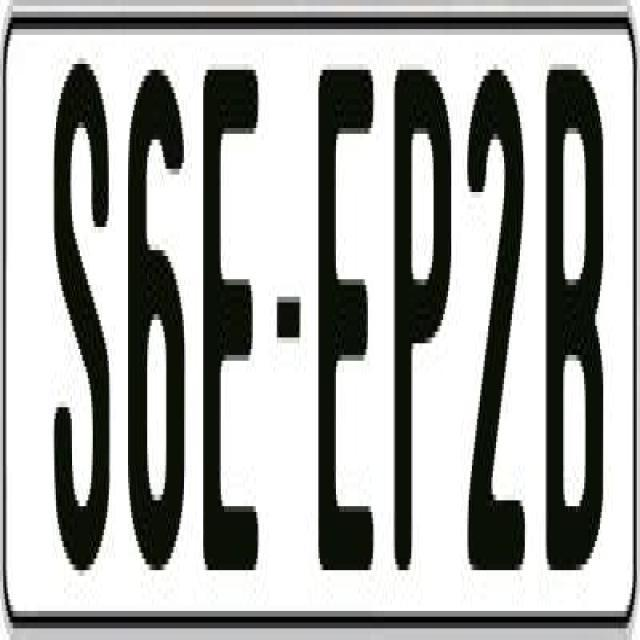2: (466, 70, 524, 582)
6: (125, 52, 189, 576)
B: (544, 58, 603, 559)
E: (202, 64, 266, 570), (316, 58, 374, 588)
P: (390, 52, 448, 576)
S: (54, 63, 116, 600)
